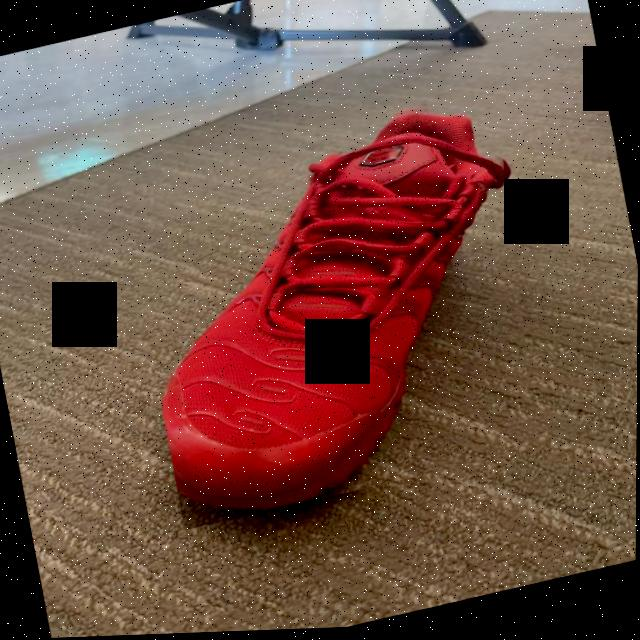shoe: (116, 89, 563, 534)
